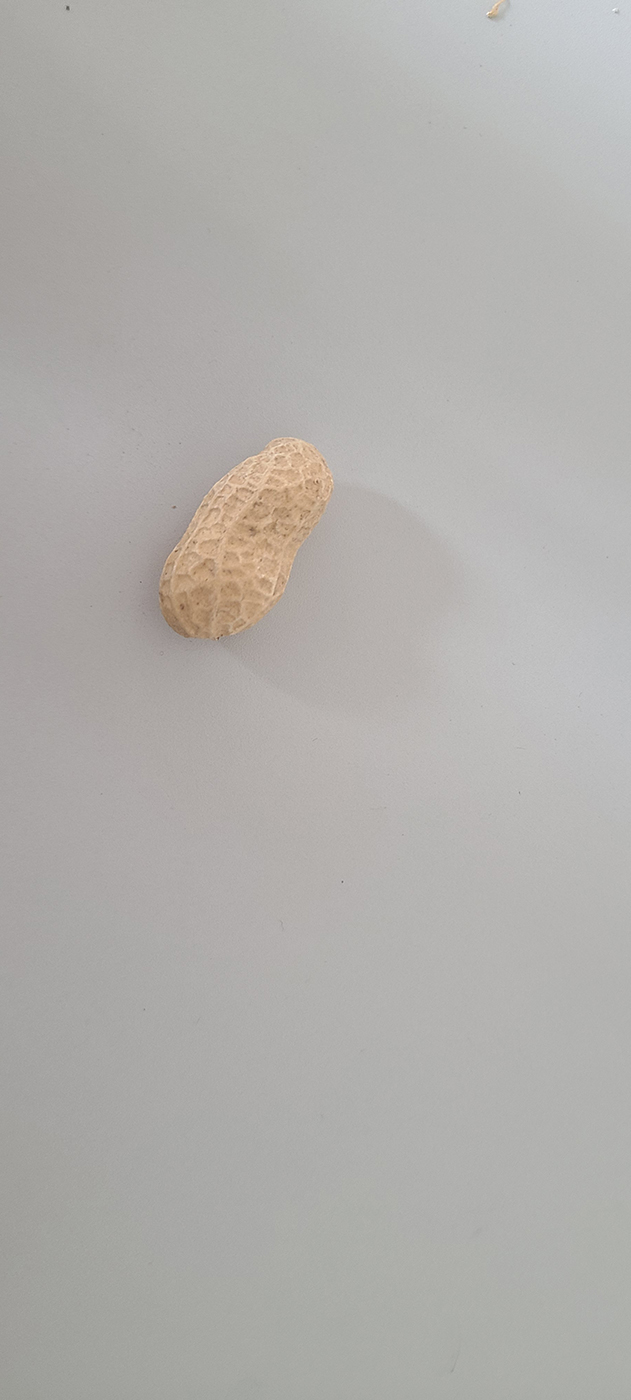h: (152, 428, 336, 643)
